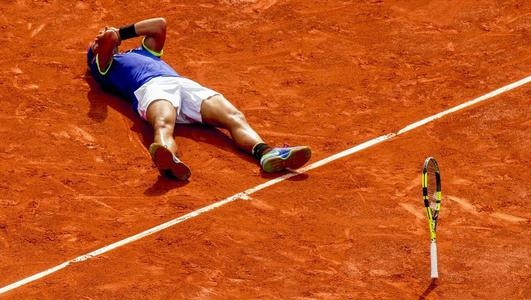falling: (75, 16, 326, 184)
